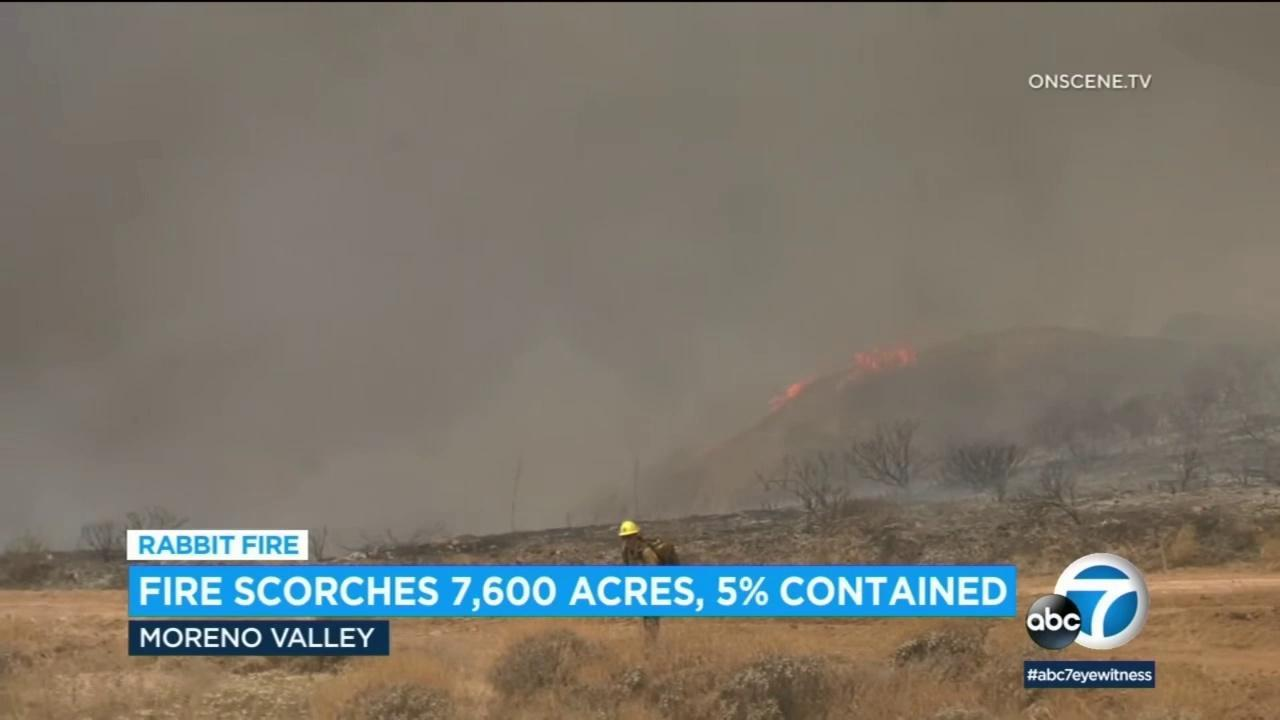fire: (767, 375, 817, 415), (851, 343, 918, 371)
smoke: (0, 2, 1280, 555)
